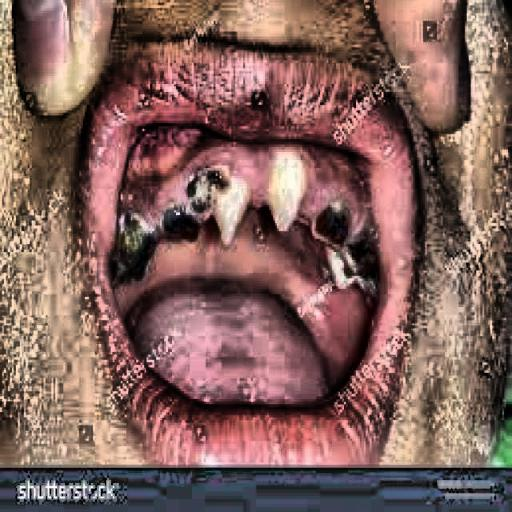Caries: (94, 160, 248, 282), (303, 163, 403, 316)
